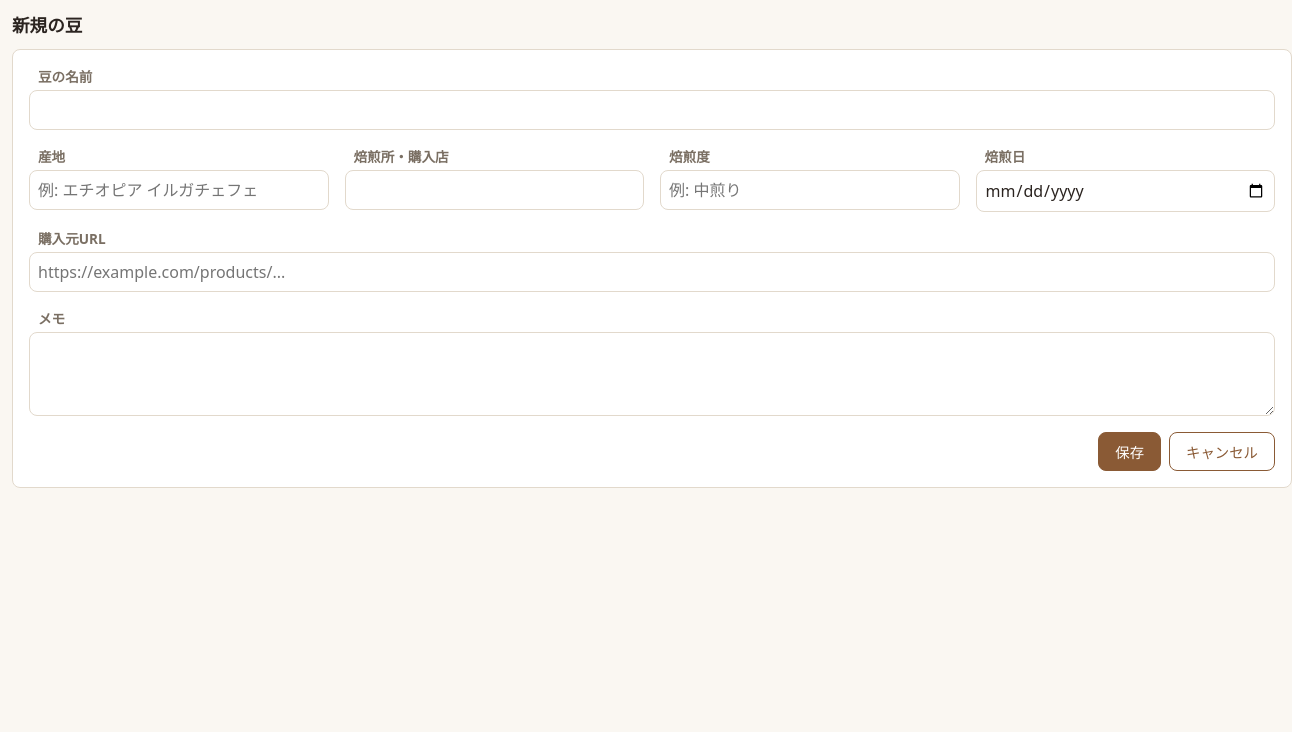
Scenario: BeanFormView.vue › rejects a loopback/private-host purchase_url client-side (SSRF defense-in-depth)
Step 1. Type "New Bean" into the field with id "name" → (652, 110), box [29,90,1275,130]
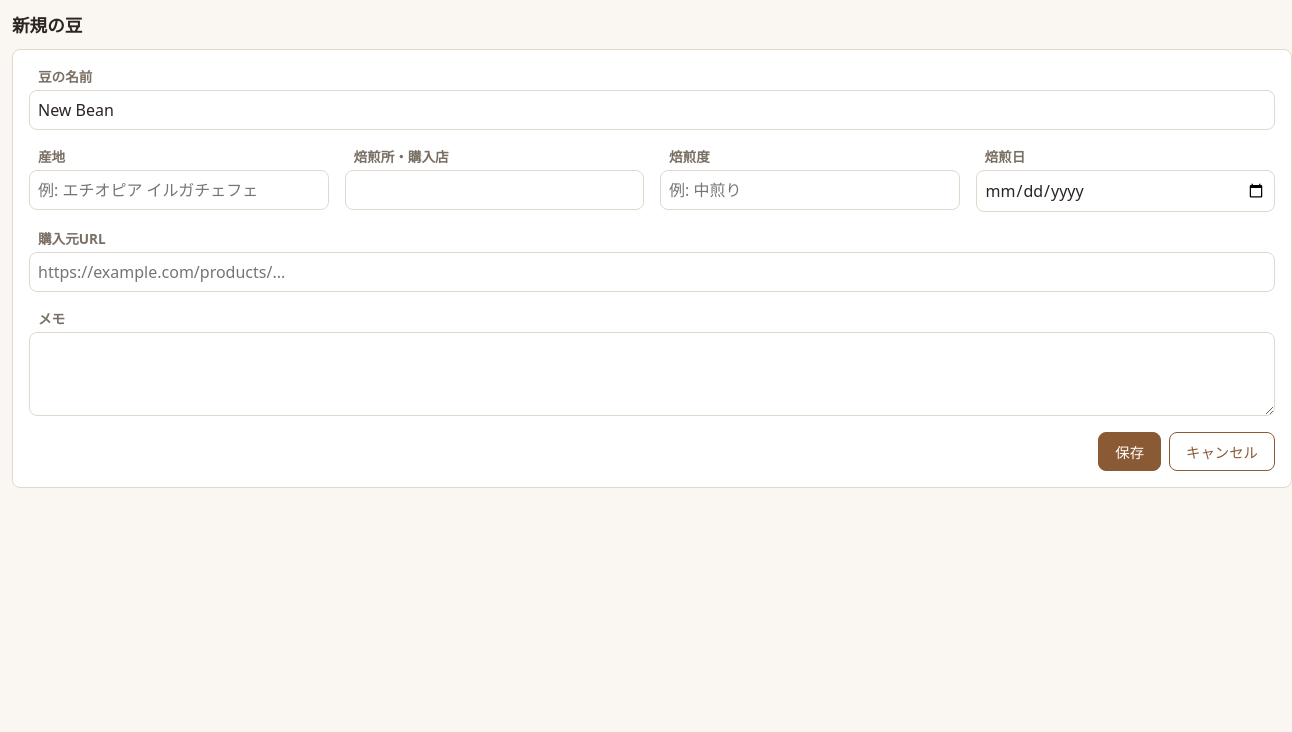
Step 2. Type "http://169.254.169.254/latest/meta-data/" into the field labelled "購入元URL" → (652, 272), box [29,252,1275,292]
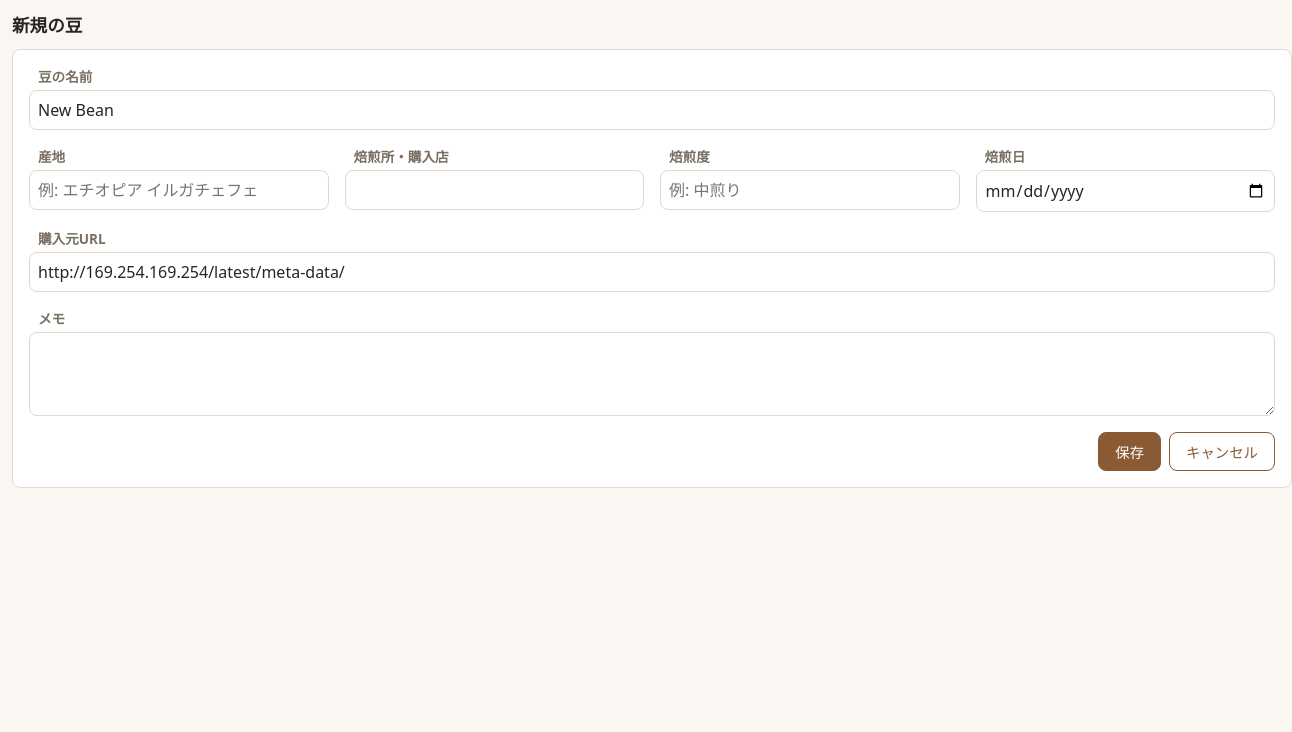
Step 3. Submit the form, box [12,49,1291,488]
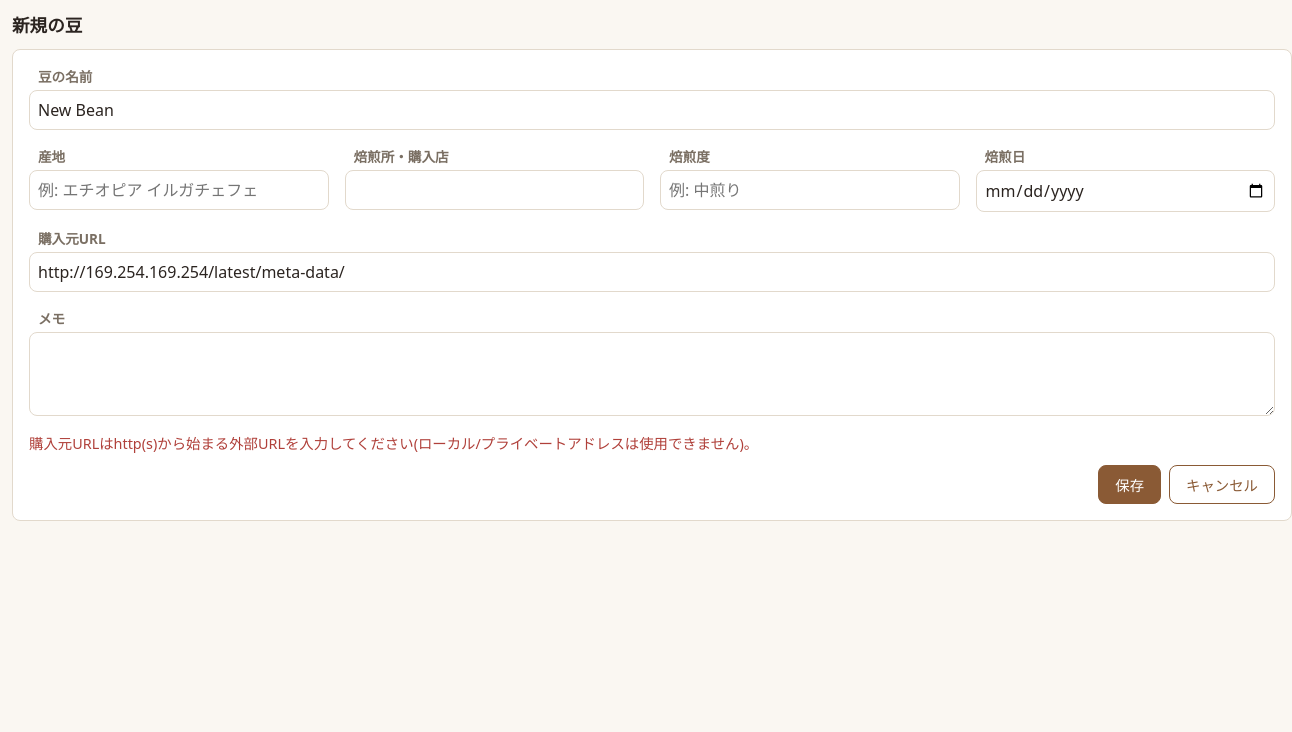
Expected: the text "購入元URLはhttp(s)から始まる外部URLを入力してください(ローカル/プライベートアドレスは使用できません)。" is shown, [29,434,758,453]
